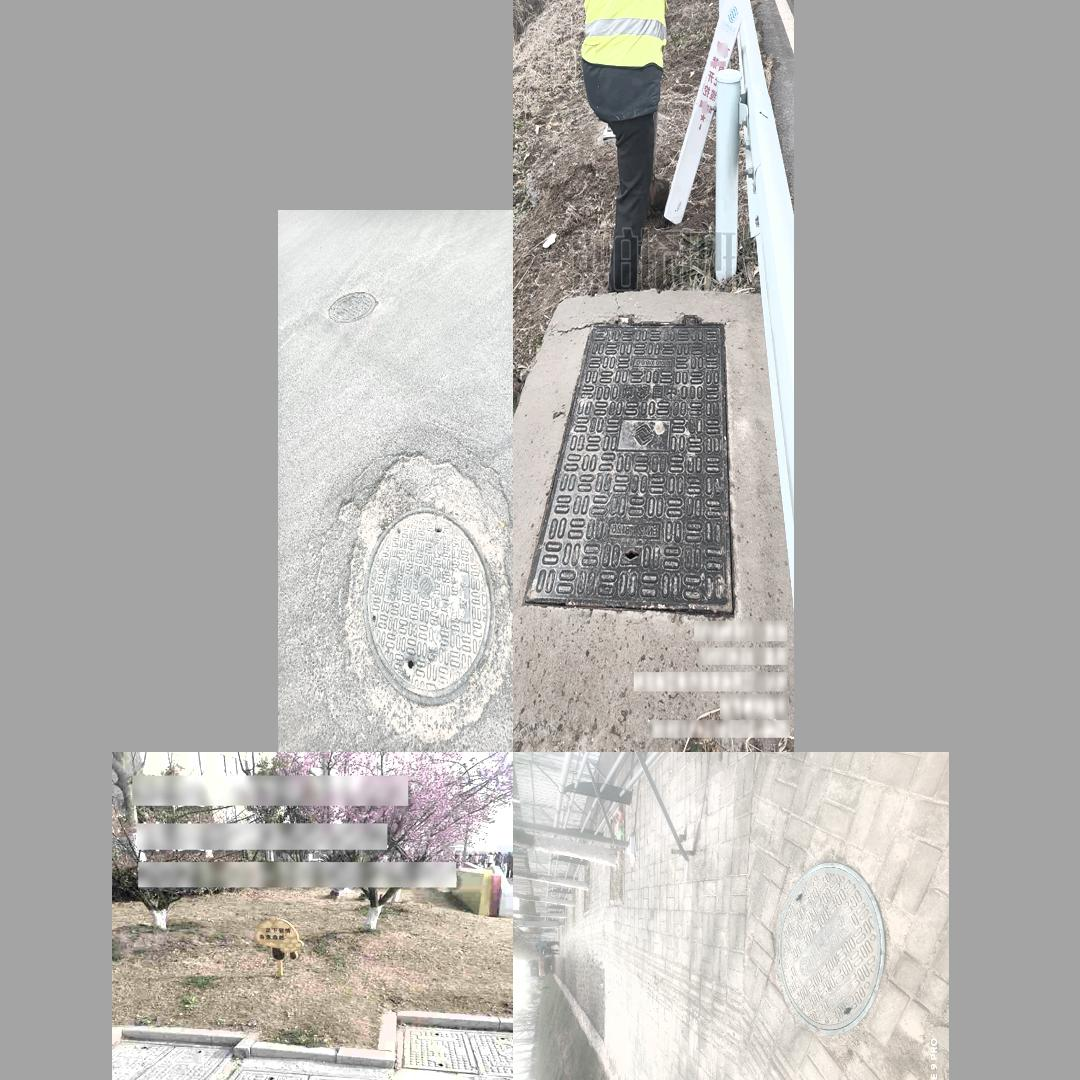good: (521, 311, 734, 614), (363, 507, 496, 705), (777, 861, 886, 1035), (400, 1022, 513, 1080), (112, 1040, 234, 1080), (183, 1063, 392, 1080), (328, 290, 379, 324)
